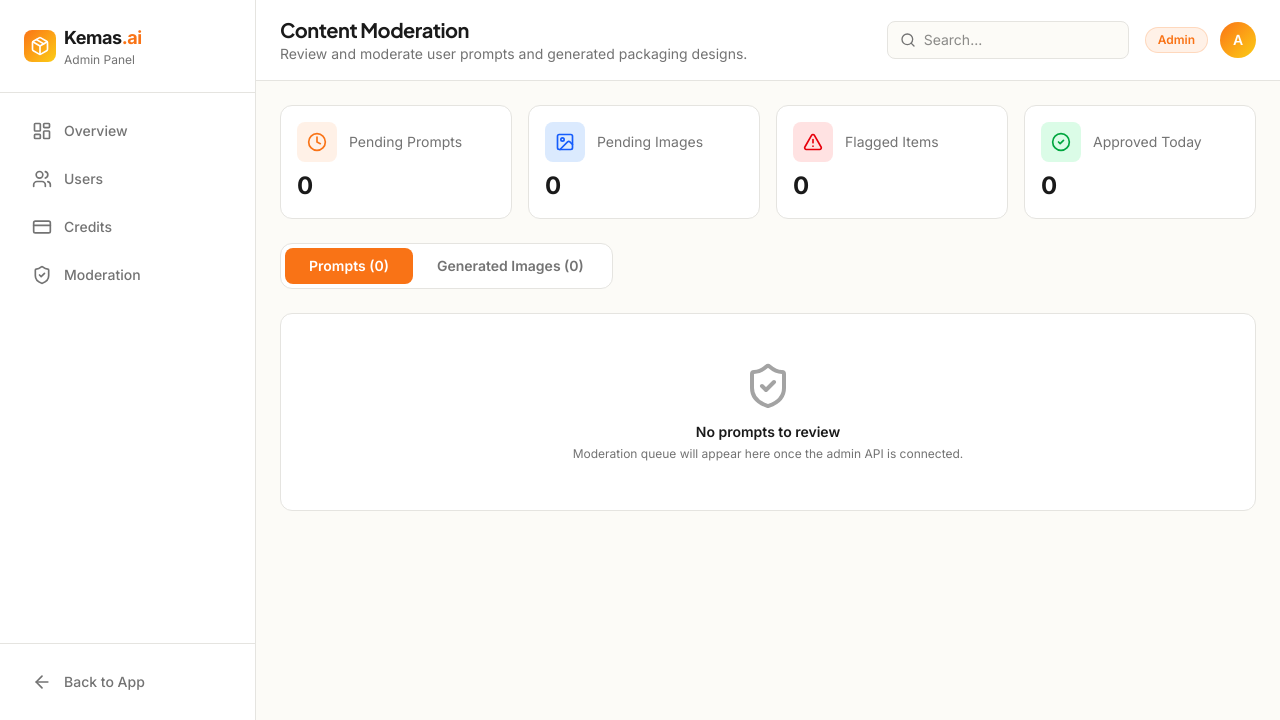
Test: Admin Dashboard & Metrics › TC-016: Menguji moderasi penghapusan visual publik permanen
Click the button "Generated Images (0)": (510, 266) [413,248,608,284]
(page scrolled)
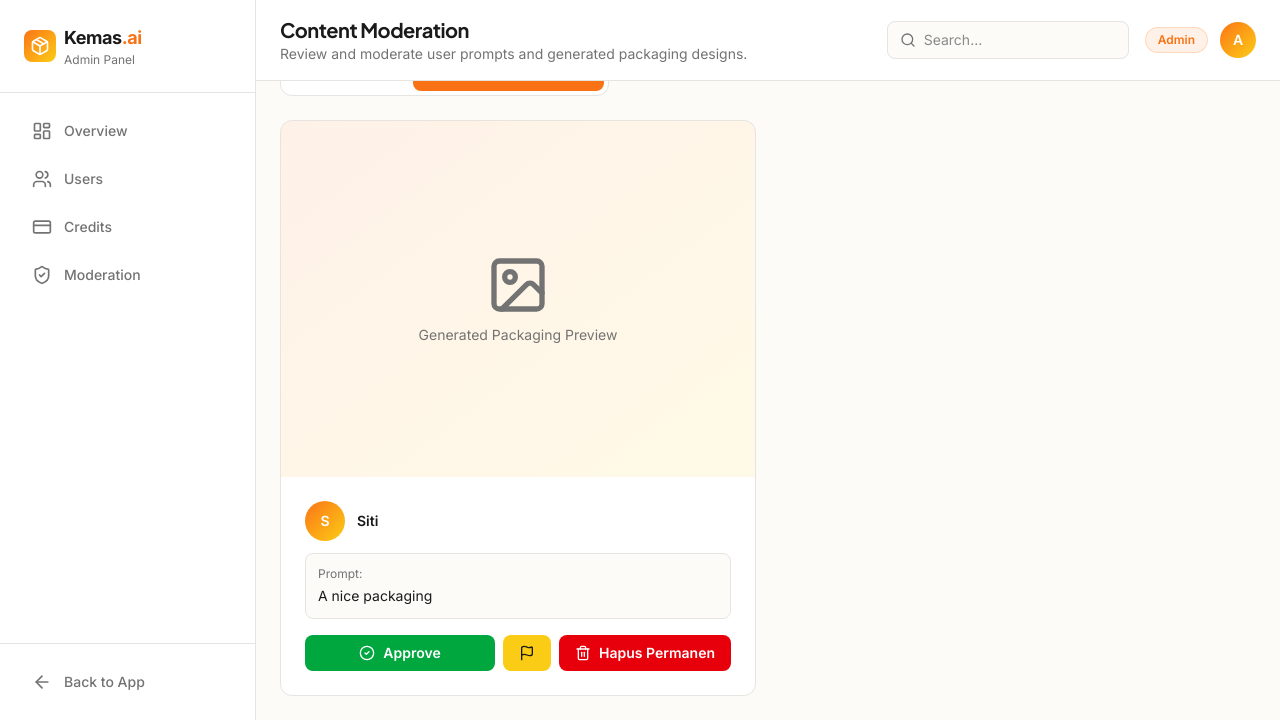
Expected: the text "Siti" is shown, [357,510,378,530]
Expected: the text "A nice packaging" is shown, [318,586,432,604]
Click the button "Hapus Permanen": (645, 652) [559,634,731,670]
(page scrolled)
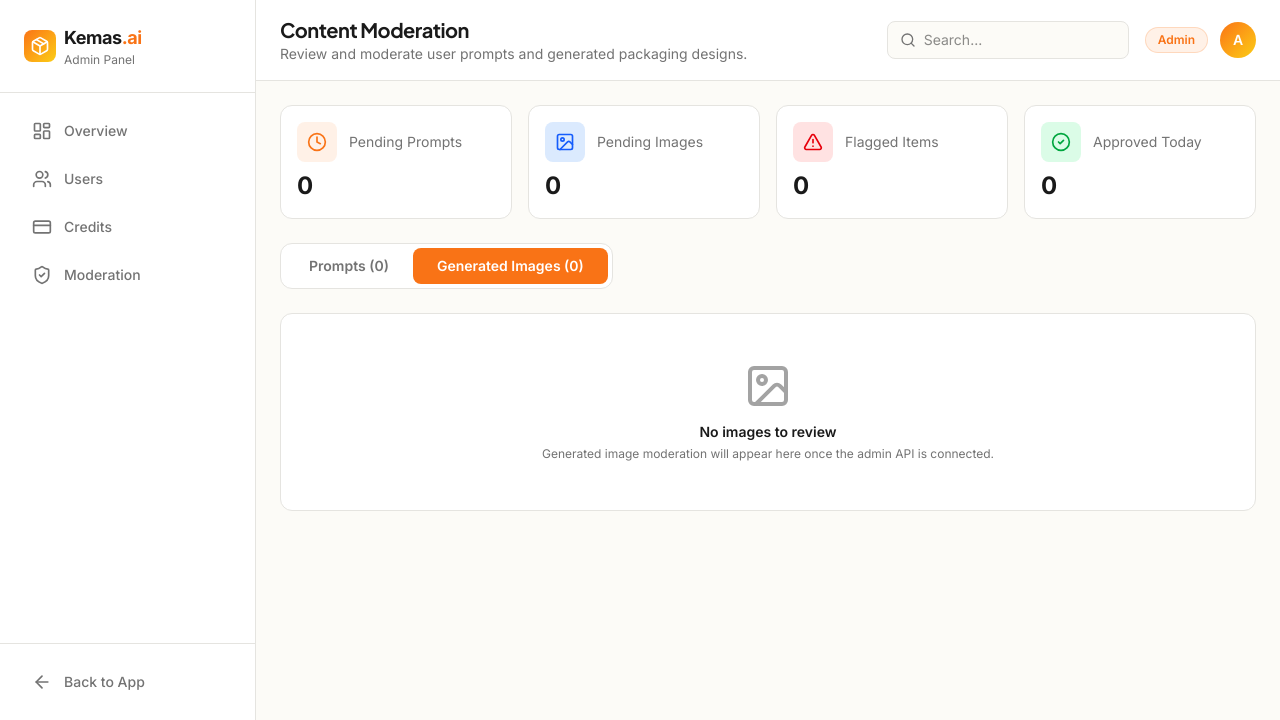
Expected: the text "Siti" is gone
Expected: the text "A nice packaging" is gone
Expected: the text "No images to review" is shown, [700,423,837,440]
